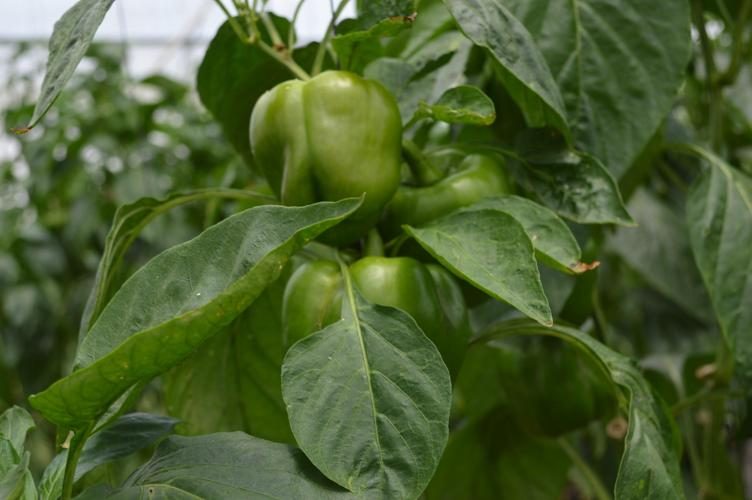BellPepper: (281, 259, 463, 395), (248, 72, 396, 237), (380, 149, 504, 307), (520, 341, 613, 432)
